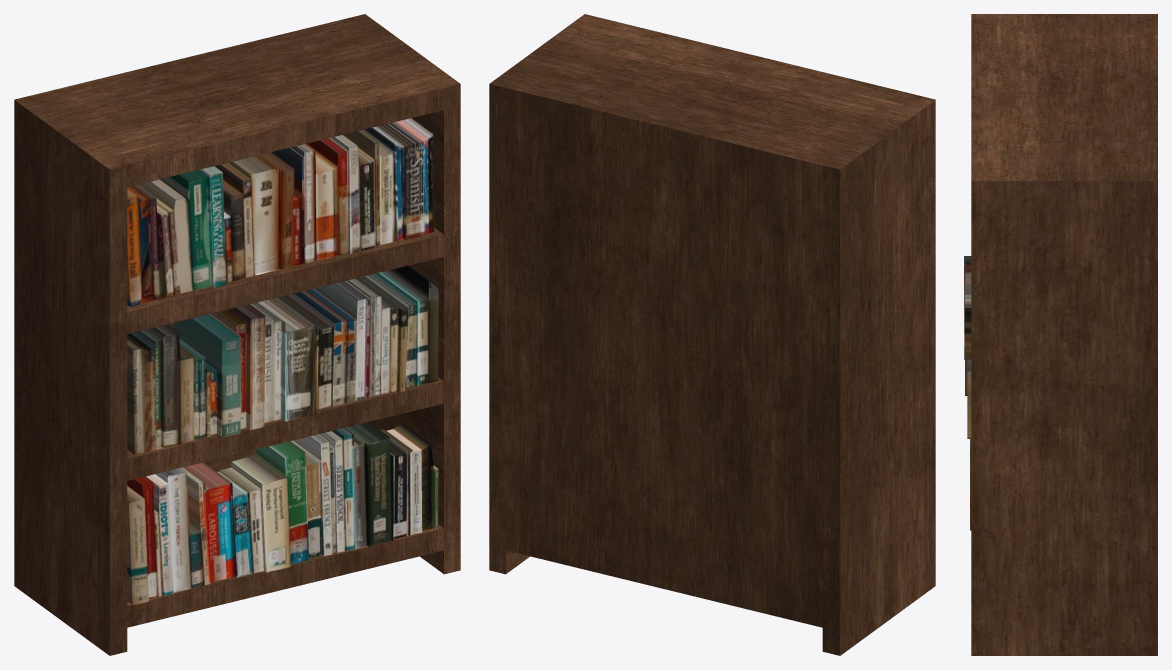
File: bookshelf_real.e71cf208.glb
3 renders of one model, left to right at view 1: azimuth 30°, elevation 25°; view 2: azimuth 150°, elevation 25°; view 3: azimuth 270°, elevation 25°, orthographic. The views are drawn at different scales.
Visible parts, largest first — view 1: Shelf, Row 2, Row 1, Row 3; view 2: Shelf; view 3: Shelf, Row 2.
Part boxes in pixels (x1,y1,x2,y2): Shelf: [14, 14, 460, 655]; Row 2: [127, 265, 439, 454]; Row 1: [127, 422, 438, 605]; Row 3: [127, 118, 434, 306]; Shelf: [489, 14, 935, 655]; Shelf: [971, 14, 1157, 655]; Row 2: [964, 256, 971, 438].
Size of the model in its own units: 1.8 by 2.38 by 0.8793.
Materials: 2 (2 with a texture image).
